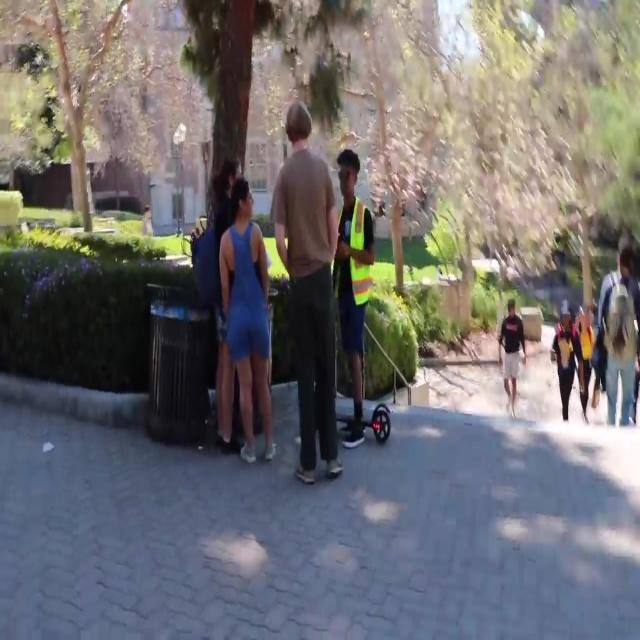vest: (336, 262, 375, 409)
